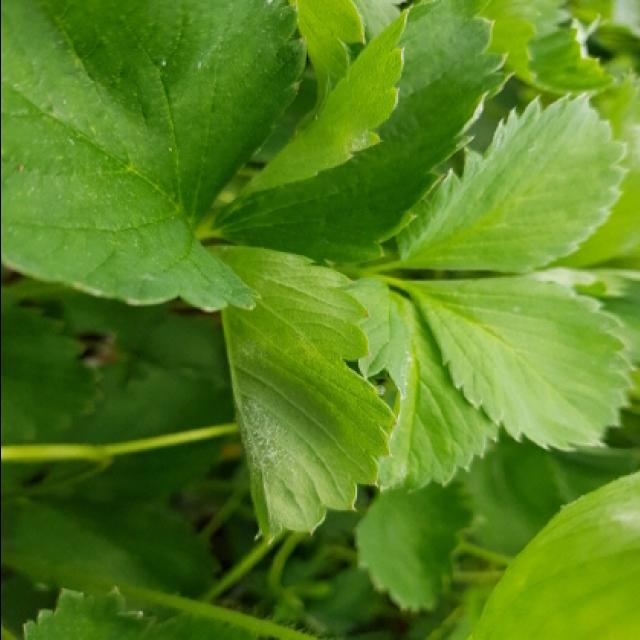Powdery Mildew Leaf: (203, 244, 399, 546), (378, 291, 498, 494)
